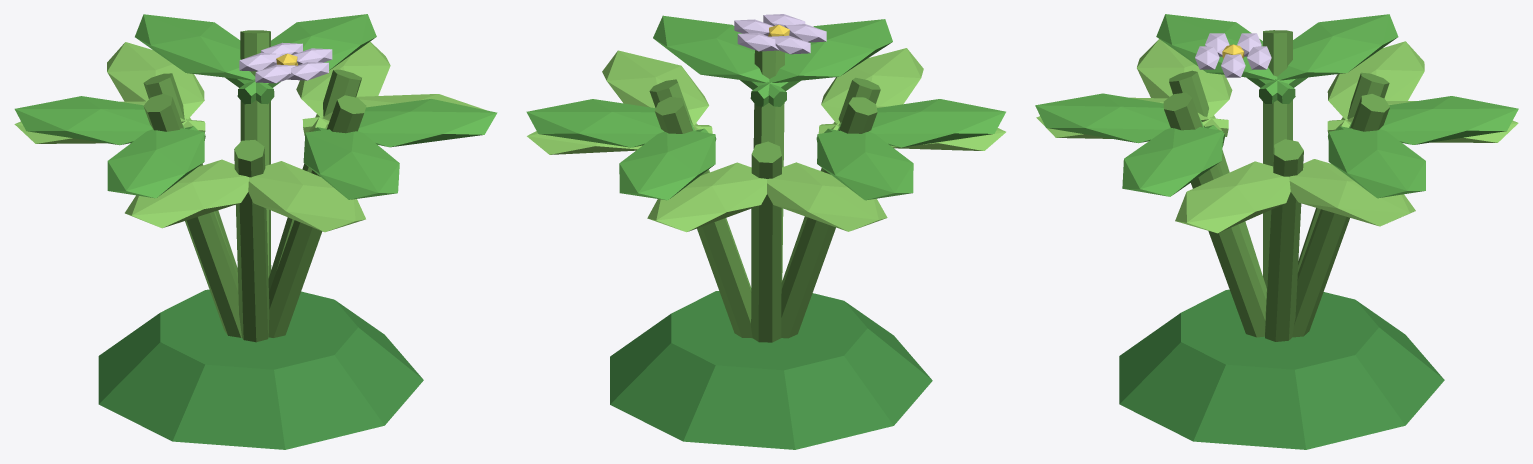
The model's file is Potato.glb.
The picture shows the model from 3 angles, left to right: view 1: azimuth 30°, elevation 25°; view 2: azimuth 150°, elevation 25°; view 3: azimuth 270°, elevation 25°; orthographic projection.
Parts seen in each view (by area): view 1: Potato_Base, Potato_Leaf_02, Potato_Stem_00, Potato_Leaf_00, Potato_Flower_Petal_0; view 2: Potato_Base, Potato_Leaf_02, Potato_Leaf_00, Potato_Stem_00, Potato_Flower_Petal_0; view 3: Potato_Base, Potato_Leaf_02, Potato_Stem_00, Potato_Leaf_00, Potato_Flower_Petal_0.
Boxes of the visible parts, box(x1,y1,x2,y2) form: Potato_Base: box(98, 289, 423, 449); Potato_Leaf_02: box(14, 14, 497, 199); Potato_Stem_00: box(143, 30, 366, 342); Potato_Leaf_00: box(14, 41, 485, 232); Potato_Flower_Petal_0: box(239, 42, 332, 83); Potato_Base: box(610, 291, 932, 449); Potato_Leaf_02: box(526, 15, 1005, 200); Potato_Leaf_00: box(527, 48, 1005, 232); Potato_Stem_00: box(649, 50, 880, 342); Potato_Flower_Petal_0: box(734, 14, 826, 54); Potato_Base: box(1119, 289, 1444, 449); Potato_Leaf_02: box(1035, 14, 1518, 198); Potato_Stem_00: box(1163, 30, 1389, 341); Potato_Leaf_00: box(1036, 39, 1518, 233); Potato_Flower_Petal_0: box(1195, 33, 1271, 77).
Bounding box in the file's own units: 1.22 × 1.03 × 1.33.
